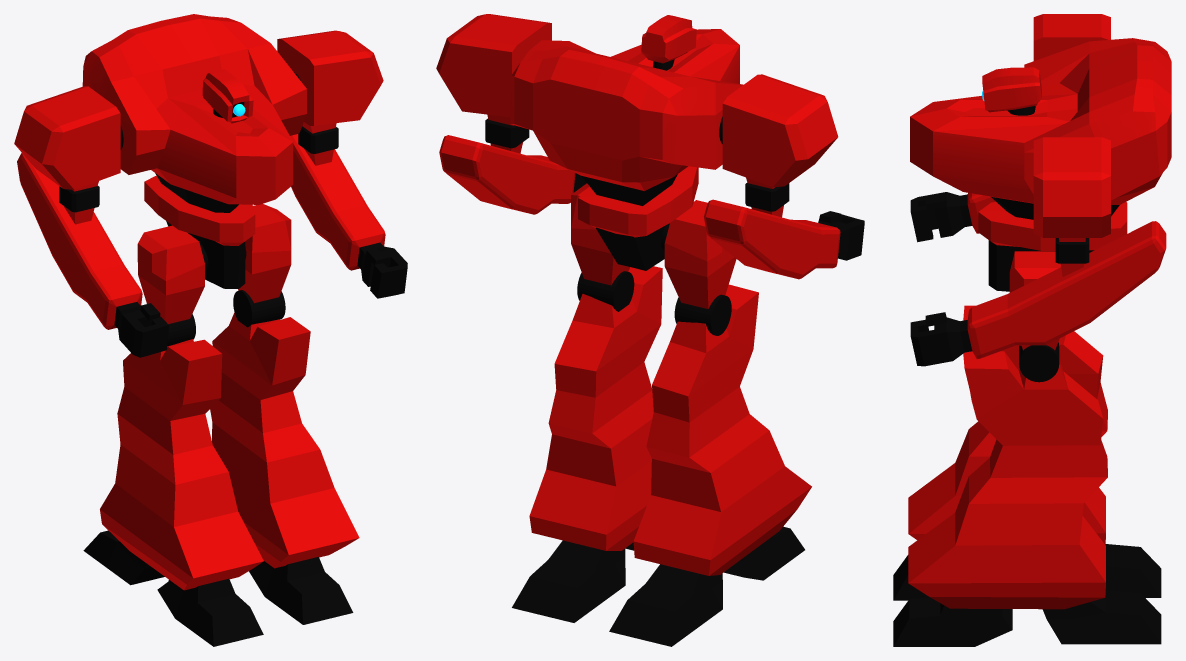
The model's file is MechPrototype.fbx.
3 renders of one model, left to right at view 1: azimuth 30°, elevation 25°; view 2: azimuth 150°, elevation 25°; view 3: azimuth 270°, elevation 25°, orthographic. The views are drawn at different scales.
Parts seen in each view (by area): view 1: Lower Legs, Core, Shoulders, Forearms, Feet, Upper Legs, Hands, Elbows, Knees, Head; view 2: Lower Legs, Core, Shoulders, Feet, Forearms, Upper Legs, Knees, Elbows, Head, Hands; view 3: Lower Legs, Core, Feet, Forearms, Shoulders, Hands, Head, Upper Legs, Knees, Elbows.
Boxes of the visible parts, box(x1,y1,x2,y2) form: Lower Legs: box(100, 312, 359, 590); Core: box(82, 14, 306, 288); Shoulders: box(14, 30, 383, 191); Forearms: box(17, 134, 385, 329); Feet: box(83, 530, 353, 646); Upper Legs: box(137, 204, 291, 323); Hands: box(114, 242, 407, 357); Elbows: box(59, 126, 338, 224); Knees: box(167, 290, 285, 346); Head: box(202, 69, 253, 123); Lower Legs: box(529, 266, 811, 575); Core: box(510, 29, 743, 270); Shoulders: box(436, 14, 838, 188); Feet: box(512, 526, 804, 646); Forearms: box(439, 135, 840, 279); Upper Legs: box(571, 183, 736, 308); Knees: box(577, 271, 731, 335); Elbows: box(485, 118, 789, 217); Head: box(641, 15, 696, 70); Hands: box(573, 173, 864, 260); Lower Legs: box(908, 305, 1107, 609); Core: box(910, 38, 1171, 291); Feet: box(893, 544, 1161, 646); Forearms: box(967, 193, 1166, 358); Shoulders: box(1033, 14, 1110, 241); Hands: box(910, 192, 972, 366); Head: box(982, 67, 1041, 115); Upper Legs: box(1009, 251, 1060, 350); Knees: box(1019, 342, 1059, 382); Elbows: box(1055, 238, 1089, 276).
Size of the model in its own units: 545 by 793 by 363.
